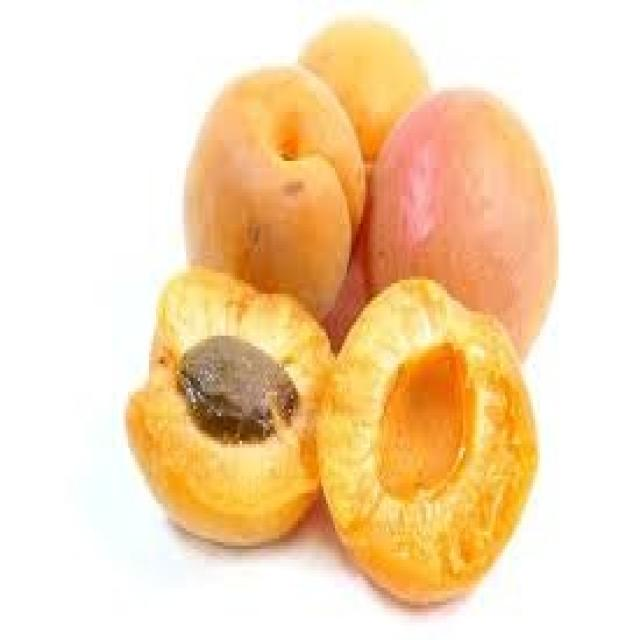cekirdek: (172, 333, 303, 451)
kayisi: (310, 273, 545, 617), (120, 263, 341, 553), (360, 72, 565, 384), (175, 56, 369, 327)
